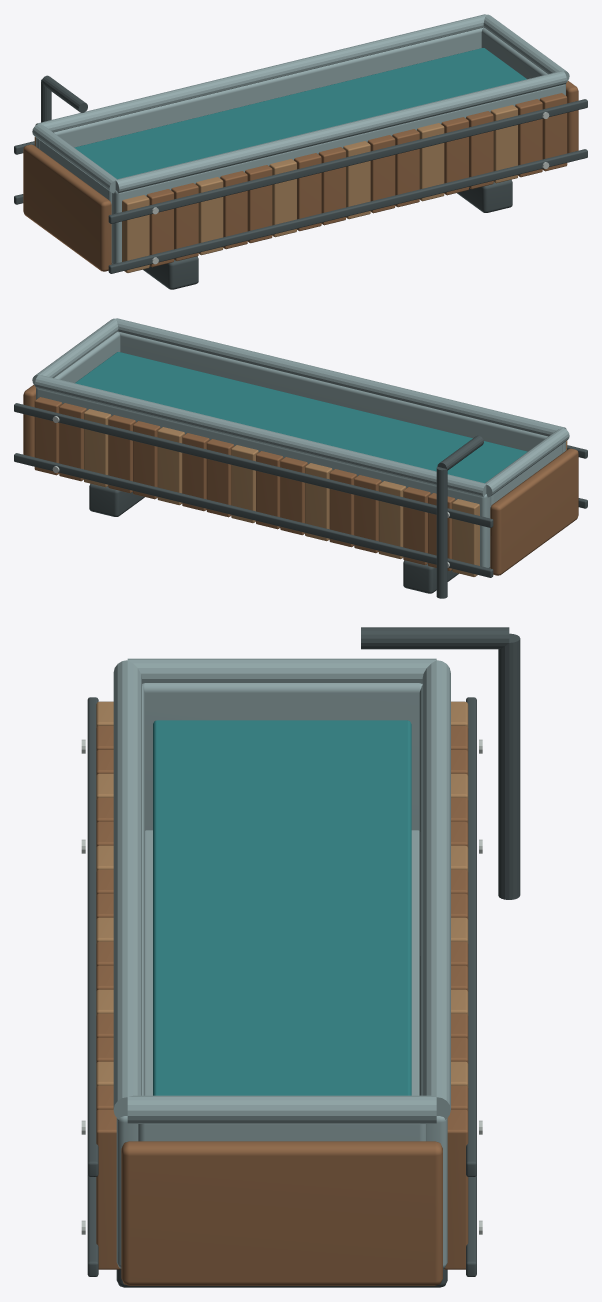
The model's file is w10a-paddock-trough-wip.glb.
The picture shows the model from 3 angles, top to bottom: view 1: azimuth 30°, elevation 25°; view 2: azimuth 150°, elevation 25°; view 3: azimuth 270°, elevation 25°; orthographic projection. The views are drawn at different scales.
Visible parts, largest first — view 1: Inset water surface, Basin long wall.001, Cedar end panel, Rounded basin rim, Rounded basin rim.001, Iron binding, Iron binding.002, Basin long wall, Cedar vertical stave, Cedar vertical stave.024, Cedar vertical stave.006, Cedar vertical stave.010 (+23 smaller); view 2: Inset water surface, Basin long wall, Cedar end panel, Rounded basin rim.001, Rounded basin rim, Iron binding.001, Iron binding.003, Basin long wall.001, Cedar vertical stave.001, Feed riser, Cedar vertical stave.025, Cedar vertical stave.021 (+23 smaller); view 3: Inset water surface, Cedar end panel.001, Rounded basin rim, Rounded basin rim.001, Basin end wall, Rounded end rim.001, Rounded end rim, Feed riser, Basin end wall.001, Iron binding.002, Basin floor, Iron binding.003 (+8 smaller).
Part boxes in pixels (box(x1,y1,x2,y2)): Inset water surface: box(74, 48, 526, 179); Basin long wall.001: box(36, 27, 483, 148); Cedar end panel: box(23, 144, 111, 271); Rounded basin rim: box(115, 71, 566, 193); Rounded basin rim.001: box(35, 14, 485, 132); Iron binding: box(108, 149, 587, 273); Iron binding.002: box(108, 99, 587, 223); Basin long wall: box(112, 84, 565, 263); Cedar vertical stave: box(122, 195, 149, 272); Cedar vertical stave.024: box(417, 123, 444, 201); Cedar vertical stave.006: box(195, 177, 223, 255); Cedar vertical stave.010: box(245, 165, 272, 243); Inset water surface: box(75, 352, 527, 483); Basin long wall: box(118, 331, 565, 452); Cedar end panel: box(490, 448, 578, 575); Rounded basin rim.001: box(35, 375, 486, 497); Rounded basin rim: box(116, 318, 566, 436); Iron binding.001: box(14, 453, 493, 577); Iron binding.003: box(14, 403, 493, 527); Basin long wall.001: box(36, 388, 489, 567); Cedar vertical stave.001: box(452, 499, 479, 576); Feed riser: box(436, 466, 447, 598); Cedar vertical stave.025: box(157, 427, 184, 505); Cedar vertical stave.021: box(206, 439, 234, 517); Inset water surface: box(153, 720, 411, 1095); Cedar end panel.001: box(121, 1141, 442, 1285); Rounded basin rim: box(113, 660, 141, 1119); Rounded basin rim.001: box(422, 660, 450, 1119); Basin end wall: box(142, 683, 422, 830); Rounded end rim.001: box(127, 1095, 436, 1123); Rounded end rim: box(127, 658, 436, 683); Feed riser: box(498, 633, 520, 899); Basin end wall.001: box(138, 1123, 425, 1141); Iron binding.002: box(87, 697, 98, 1176); Basin floor: box(145, 830, 419, 1095); Iron binding.003: box(466, 697, 476, 1176).
Size of the model in its own units: 3.5 by 1.06 by 1.39.
